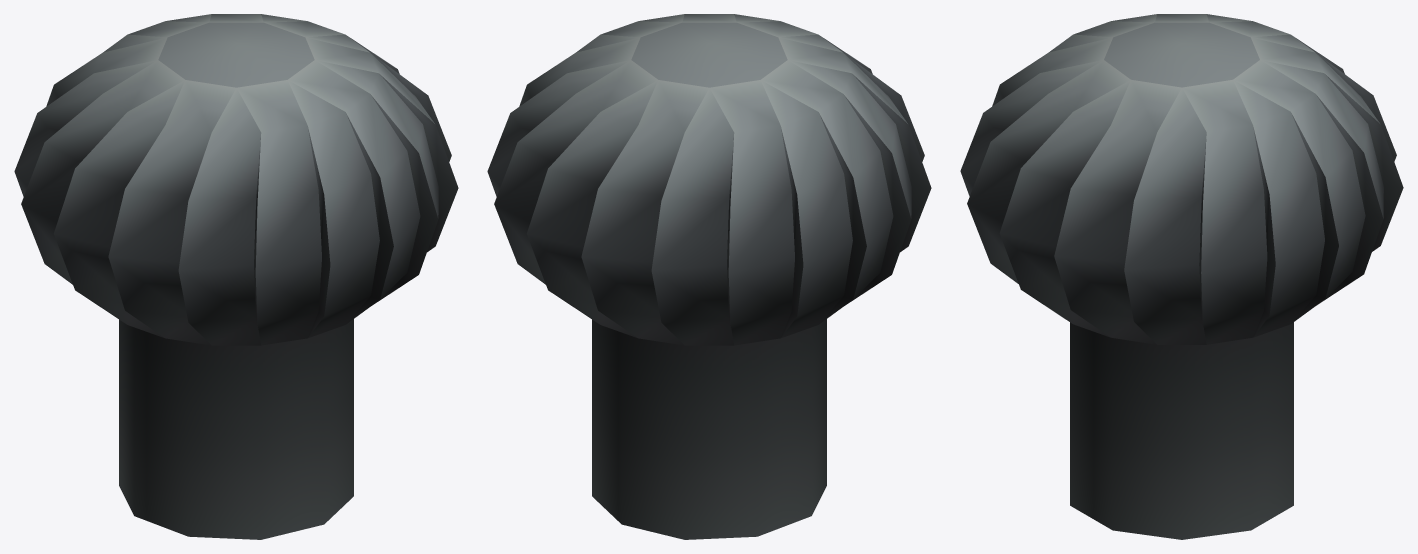
The model's file is Air_Vent_1A.fbx.
3 views of the same model, side by side, from view 1: azimuth 30°, elevation 25°; view 2: azimuth 150°, elevation 25°; view 3: azimuth 270°, elevation 25° (orthographic).
Visible parts, largest first — view 1: Turbine, Air_Vent_1A; view 2: Turbine, Air_Vent_1A; view 3: Turbine, Air_Vent_1A.
Part boxes in pixels (x1,y1,x2,y2): Turbine: [14, 14, 458, 345]; Air_Vent_1A: [119, 319, 353, 539]; Turbine: [487, 14, 931, 345]; Air_Vent_1A: [592, 319, 826, 539]; Turbine: [960, 14, 1403, 344]; Air_Vent_1A: [1070, 322, 1293, 539].
Bounding box in the file's own units: 198 × 220 × 198.
